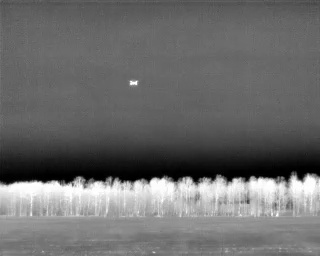DRONE: (126, 75, 142, 90)
